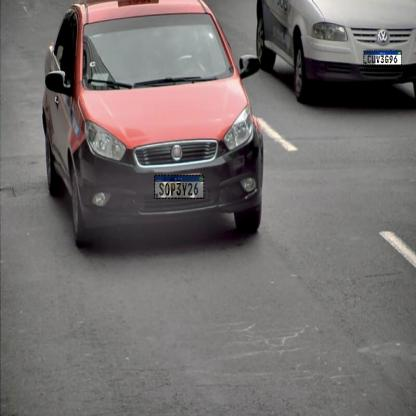PlacaM: (154, 175, 204, 199), (363, 51, 402, 65)
